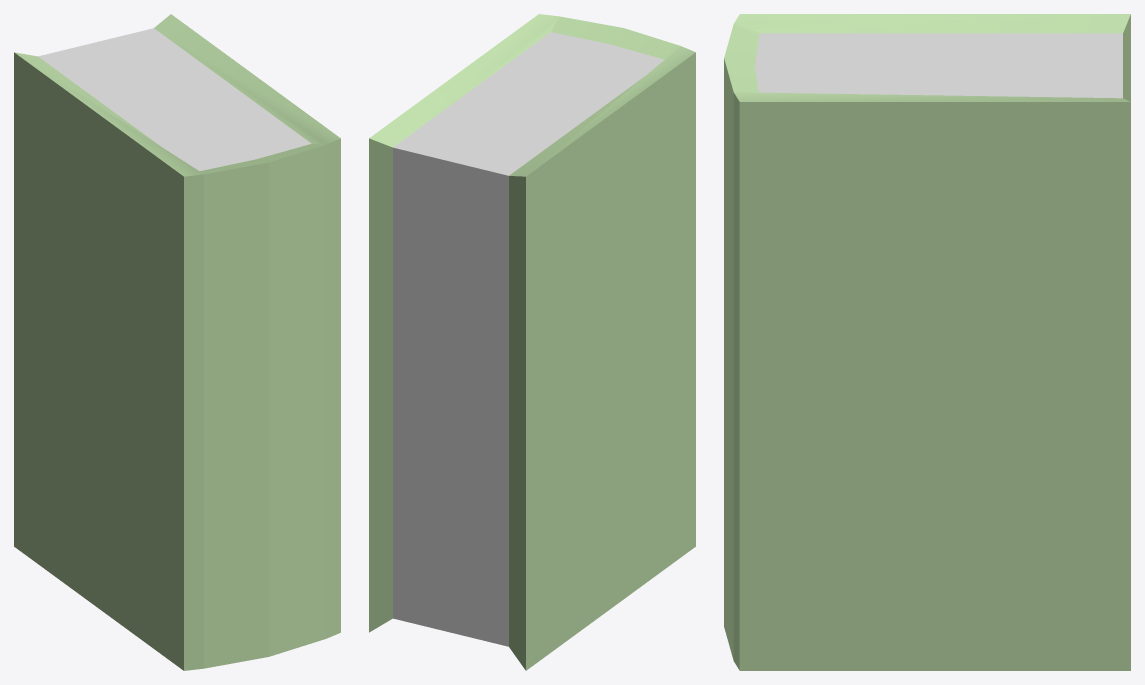
File: Book.4.fbx
3 views of the same model, side by side, from view 1: azimuth 30°, elevation 25°; view 2: azimuth 150°, elevation 25°; view 3: azimuth 270°, elevation 25° (orthographic). The views are drawn at different scales.
Parts seen in each view (by area): view 1: Book_4; view 2: Book_4; view 3: Book_4.
Part boxes in pixels (x1,y1,x2,y2): Book_4: [14, 14, 340, 670]; Book_4: [369, 14, 695, 670]; Book_4: [724, 14, 1130, 670].
Bounding box in the file's own units: 17.63 × 53.07 × 34.4.
